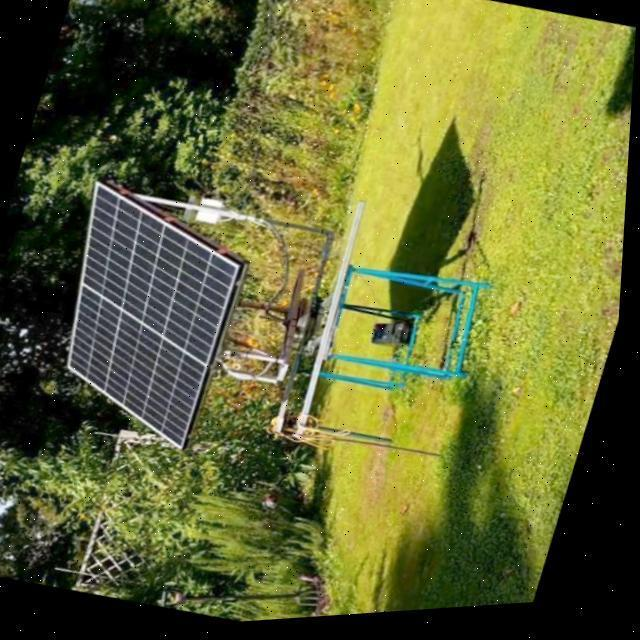Normal Solar Panel: (25, 176, 264, 462)
